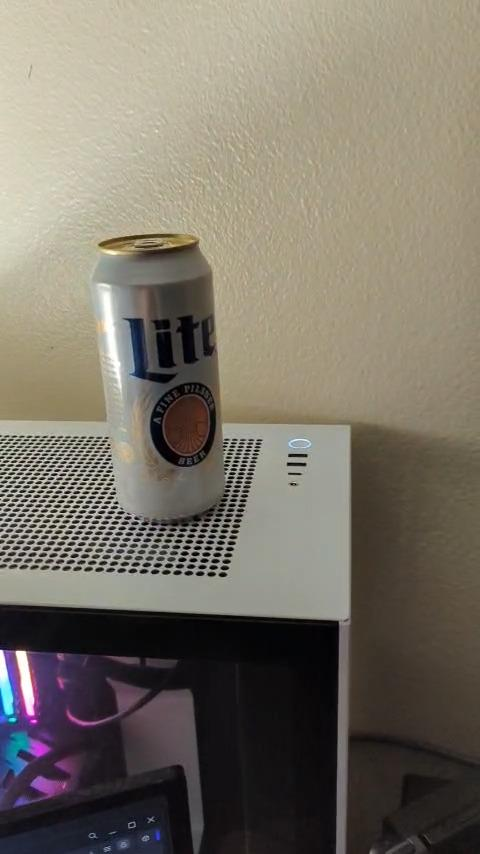metal: (92, 234, 224, 521)
